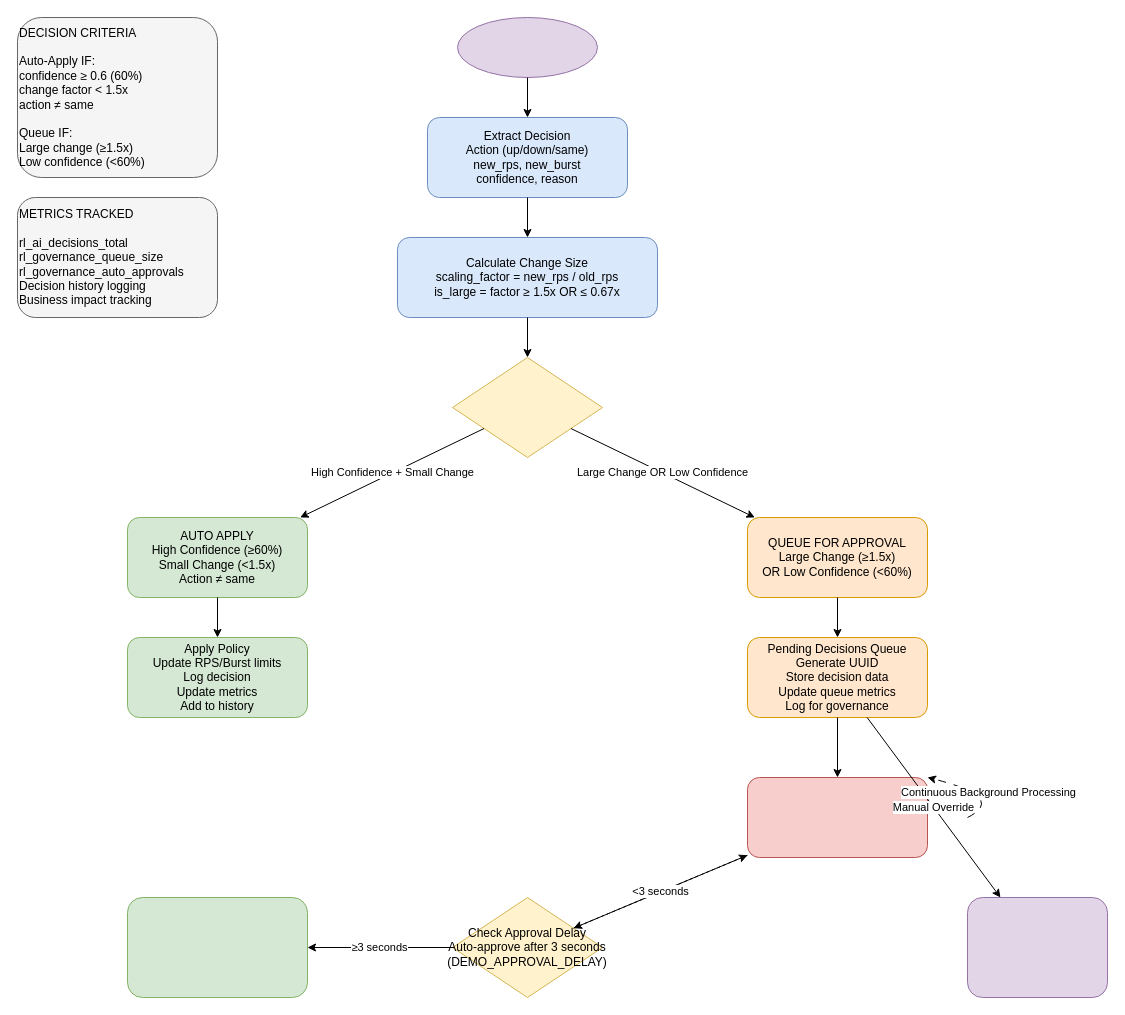
The diagram is 1125 pixels wide and 1015 high, and some of its shapes have lost their labels. The shapes that lost their labels are listed below. From the top down, each one's box as (x1, y1, x2, y2) in pixels, then its label:
(456, 16, 598, 78): AI Decision Generated
(452, 356, 602, 458): Apply or Queue?
(746, 776, 928, 858): Auto-Approval Loop (Background Thread) Check every 0.1 seconds
(126, 896, 308, 998): AUTO APPROVE Remove from queue Apply policy Update metrics Log approval
(966, 896, 1108, 998): Manual Approval API Endpoints: /ai/approve/{id} /ai/approve_all
